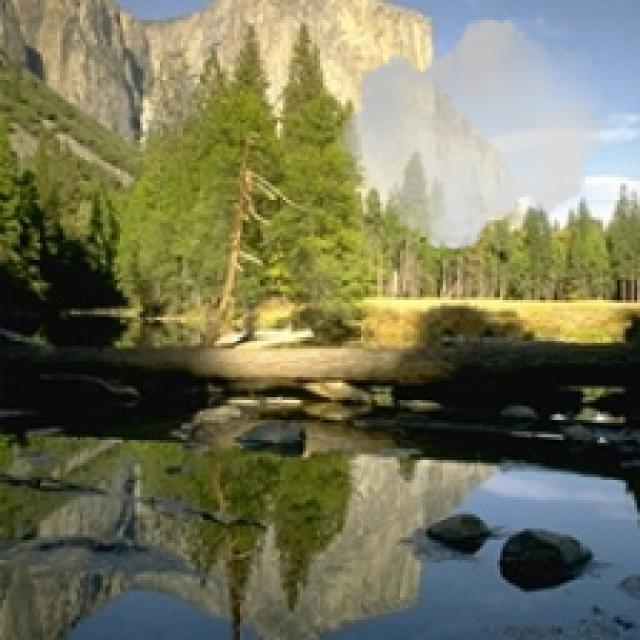Smoke: (334, 8, 609, 260)
